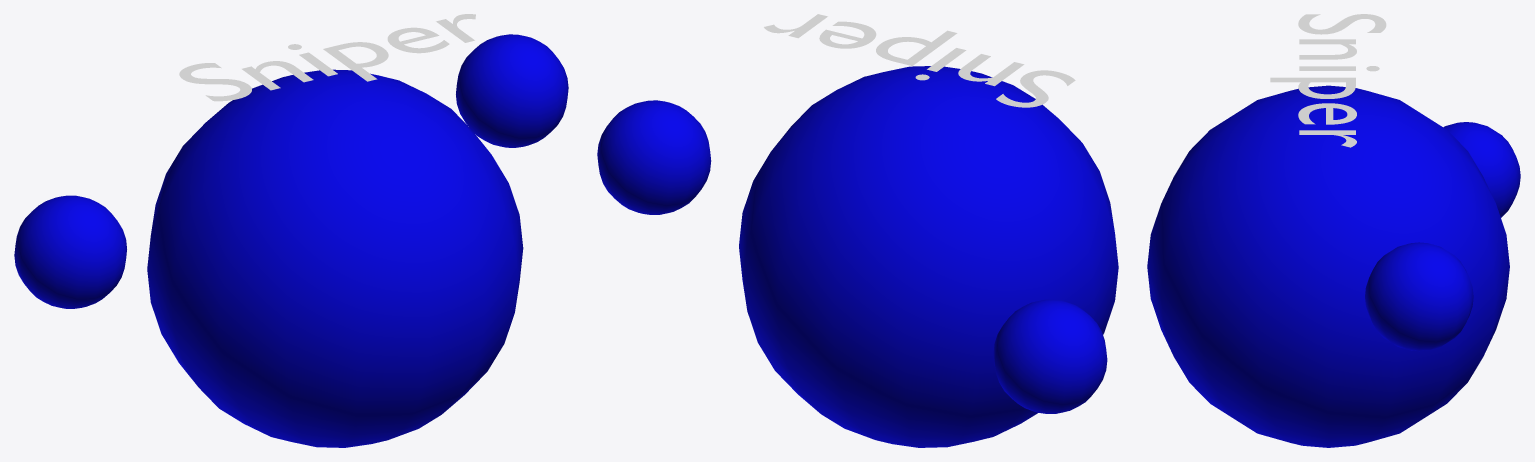
Rendered from actor_def_sniper.fbx.
The picture shows the model from 3 angles, left to right: view 1: azimuth 30°, elevation 25°; view 2: azimuth 150°, elevation 25°; view 3: azimuth 270°, elevation 25°; orthographic projection. The views are drawn at different scales.
Visible parts, largest first — view 1: Sphere, Sphere.001, Sphere.002, Font; view 2: Sphere, Sphere.002, Sphere.001, Font; view 3: Sphere, Sphere.001, Font, Sphere.002.
Boxes of the visible parts, left/top/right/bottom form: Sphere: left=147, top=69, right=523, bottom=447; Sphere.001: left=456, top=34, right=568, bottom=147; Sphere.002: left=14, top=195, right=126, bottom=308; Font: left=179, top=14, right=475, bottom=101; Sphere: left=739, top=66, right=1118, bottom=447; Sphere.002: left=993, top=299, right=1107, bottom=413; Sphere.001: left=597, top=100, right=711, bottom=214; Font: left=764, top=14, right=1075, bottom=107; Sphere: left=1147, top=85, right=1509, bottom=447; Sphere.001: left=1365, top=242, right=1473, bottom=351; Font: left=1270, top=14, right=1386, bottom=147; Sphere.002: left=1443, top=122, right=1520, bottom=217.
Size of the model in its own units: 3.14 by 2.16 by 2.06.
